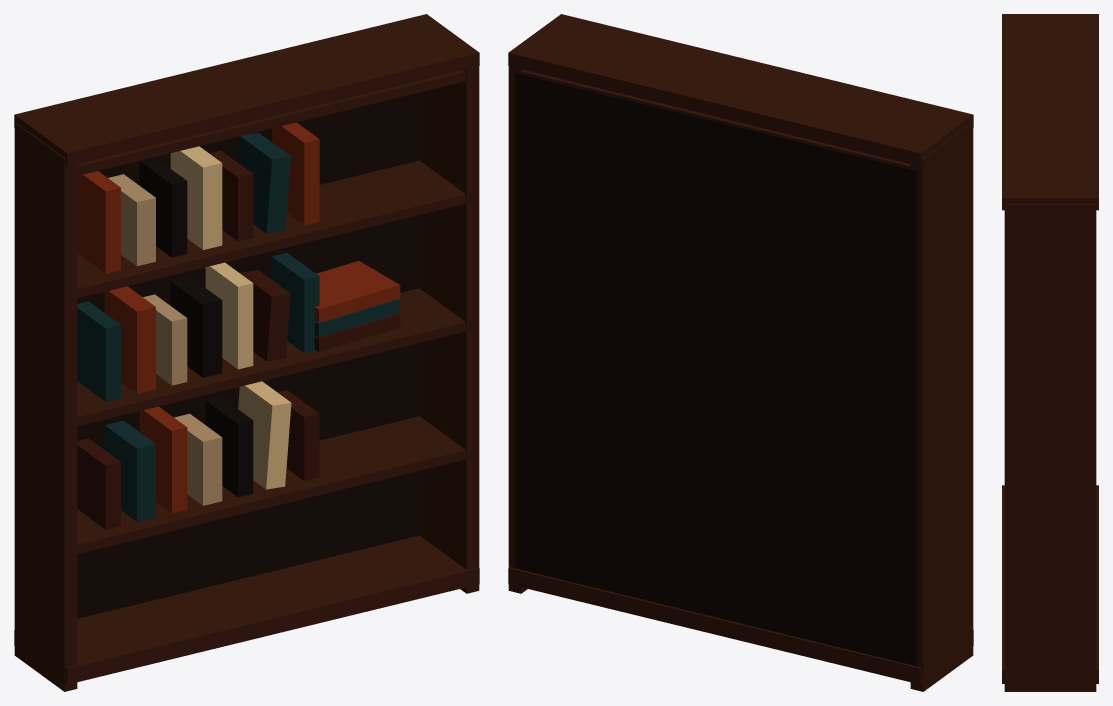
Rendered from bookshelf.glb.
The picture shows the model from 3 angles, left to right: view 1: azimuth 30°, elevation 25°; view 2: azimuth 150°, elevation 25°; view 3: azimuth 270°, elevation 25°; orthographic projection. The views are drawn at different scales.
Visible parts, largest first — view 1: bookshelf; view 2: bookshelf; view 3: bookshelf.
Part boxes in pixels (box(x1,y1,x2,y2)): bookshelf: box(14, 14, 479, 691); bookshelf: box(508, 14, 973, 691); bookshelf: box(1002, 14, 1098, 691).
Bounding box in the file's own units: 1.63 × 2.03 × 0.3601.
